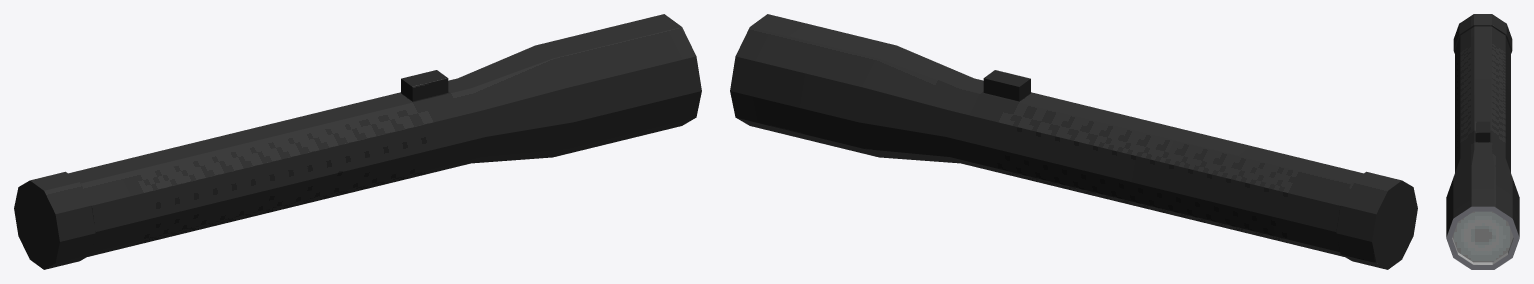
File: psx_flashlight.glb
The picture shows the model from 3 angles, left to right: view 1: azimuth 30°, elevation 25°; view 2: azimuth 150°, elevation 25°; view 3: azimuth 270°, elevation 25°; orthographic projection. The views are drawn at different scales.
Parts seen in each view (by area): view 1: flashlight; view 2: flashlight; view 3: flashlight.
Boxes of the visible parts, x1=… form: flashlight: x1=14, y1=14, x2=701, y2=269; flashlight: x1=730, y1=14, x2=1417, y2=269; flashlight: x1=1446, y1=14, x2=1519, y2=269.
Size of the model in its own units: 0.32 by 0.0488 by 0.05.
1 material, 1 textured.
